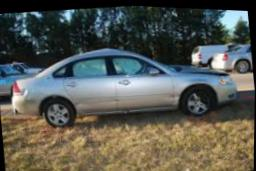Bonnet: (178, 62, 233, 85)
Bumper: (11, 103, 30, 117)
Door: (68, 89, 179, 113)
Fender: (16, 79, 38, 105)
